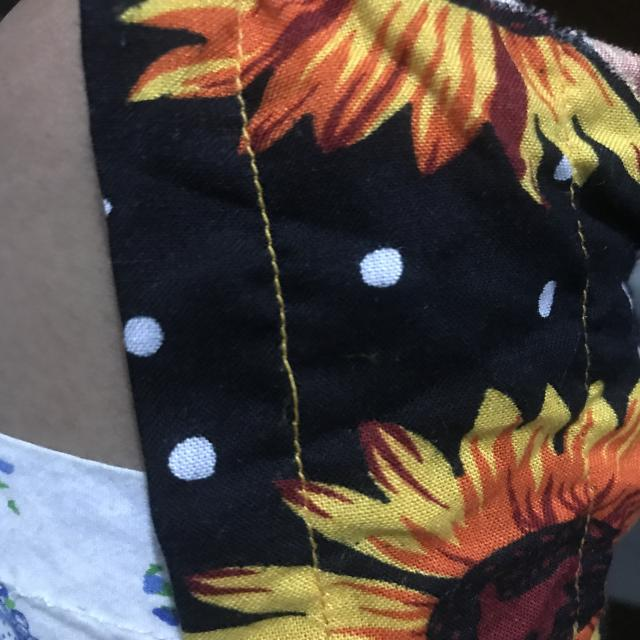good: (248, 196, 299, 300)
skip: (260, 332, 328, 441)
